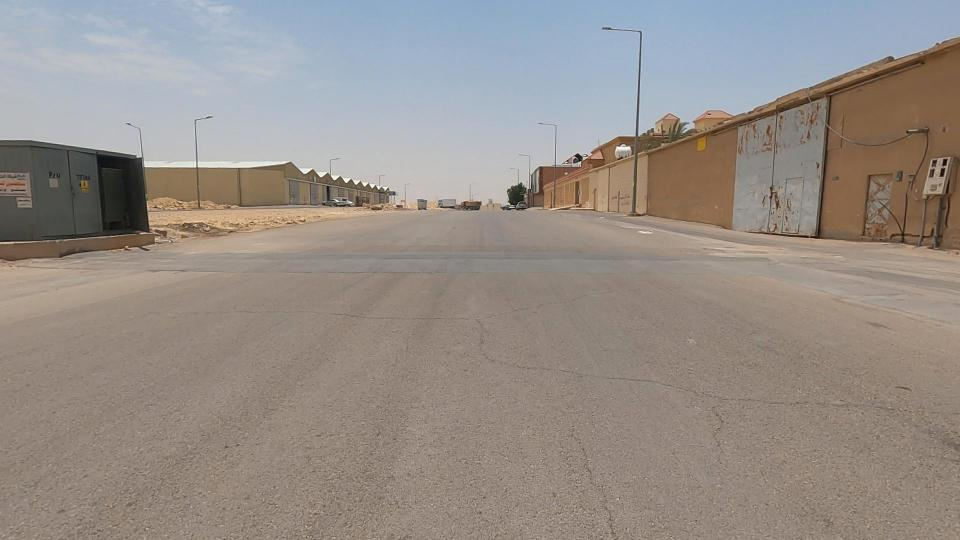GRAFFITI: (577, 171, 665, 229)
